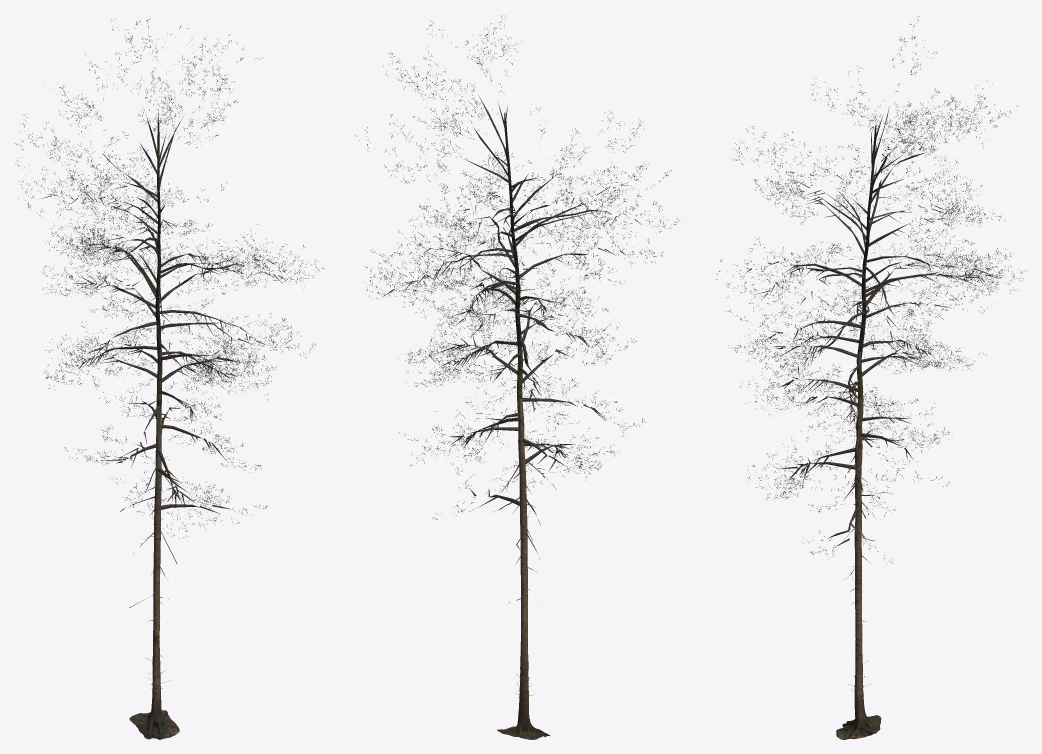
File: pine_tree_01.glb
The picture shows the model from 3 angles, left to right: view 1: azimuth 30°, elevation 25°; view 2: azimuth 150°, elevation 25°; view 3: azimuth 270°, elevation 25°; orthographic projection. The views are drawn at different scales.
Parts seen in each view (by area): view 1: pine_tree_01_a_LOD0; view 2: pine_tree_01_a_LOD0; view 3: pine_tree_01_a_LOD0.
Boxes of the visible parts, x1,y1,x2,y2 form: pine_tree_01_a_LOD0: [15, 18, 323, 739]; pine_tree_01_a_LOD0: [355, 15, 679, 739]; pine_tree_01_a_LOD0: [713, 16, 1027, 739].
Bounding box in the file's own units: 7.51 × 20.35 × 8.15.
4 materials, 4 textured.
